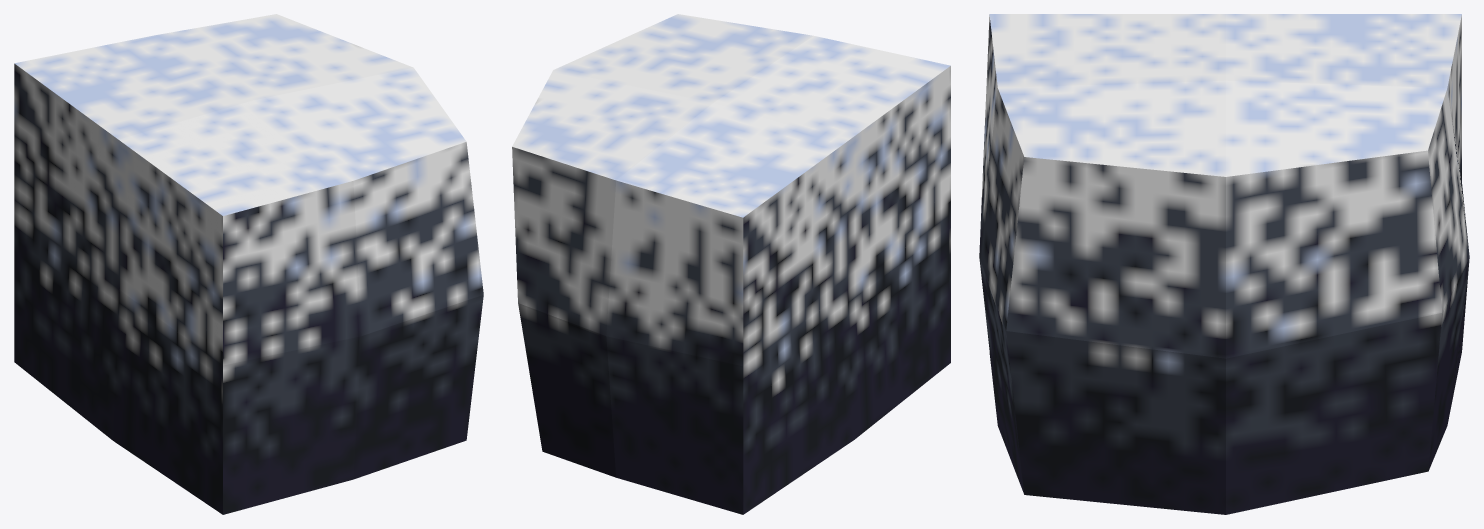
Rendered from Cliffs_04.obj.
The picture shows the model from 3 angles, left to right: view 1: azimuth 30°, elevation 25°; view 2: azimuth 150°, elevation 25°; view 3: azimuth 270°, elevation 25°; orthographic projection. The views are drawn at different scales.
Visible parts, largest first — view 1: Cube; view 2: Cube; view 3: Cube.
Part boxes in pixels (box(x1,y1,x2,y2)): Cube: box(14, 14, 483, 514); Cube: box(512, 14, 950, 514); Cube: box(979, 14, 1469, 514).
Size of the model in its own units: 2.28 by 2.04 by 2.63.
